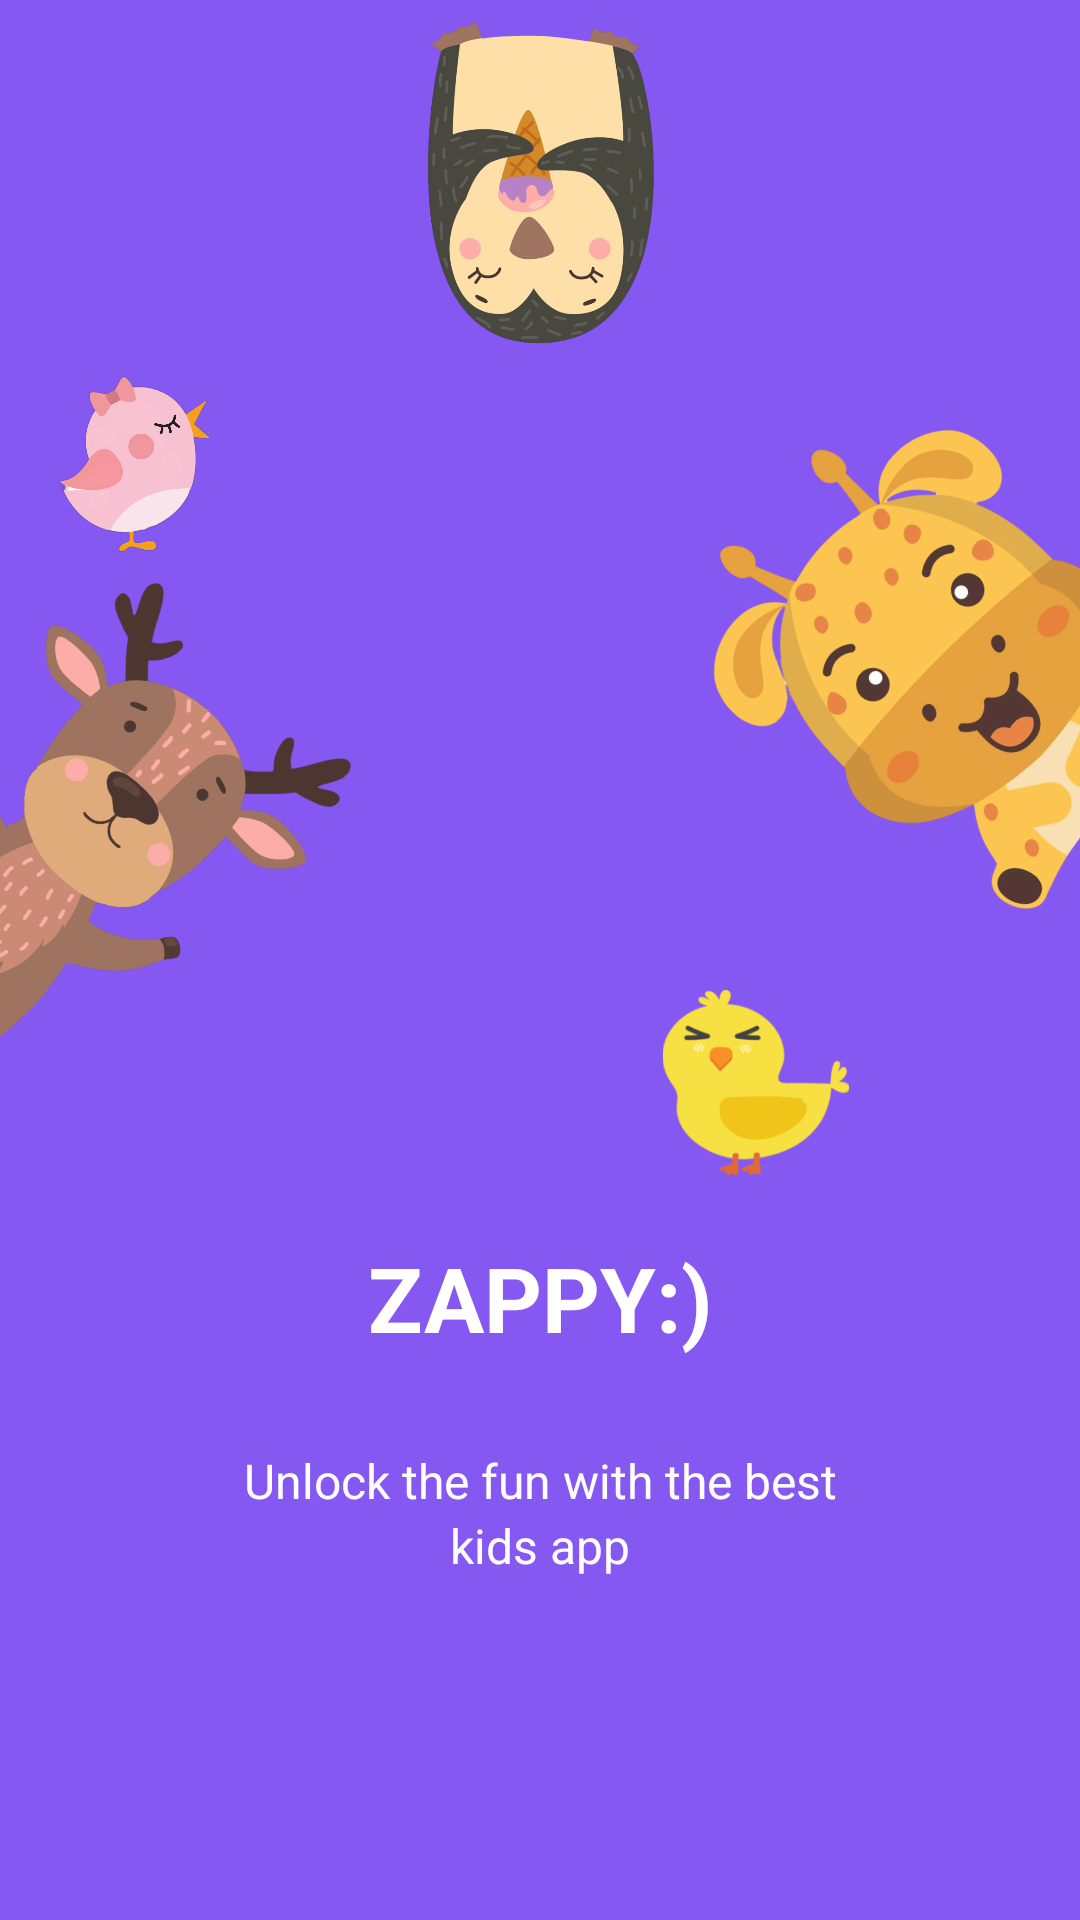

Icons on this 1080px x 1920px Android screen, each with the point to tap as [x,y]:
bird: [135,464]
chick: [756,1082]
